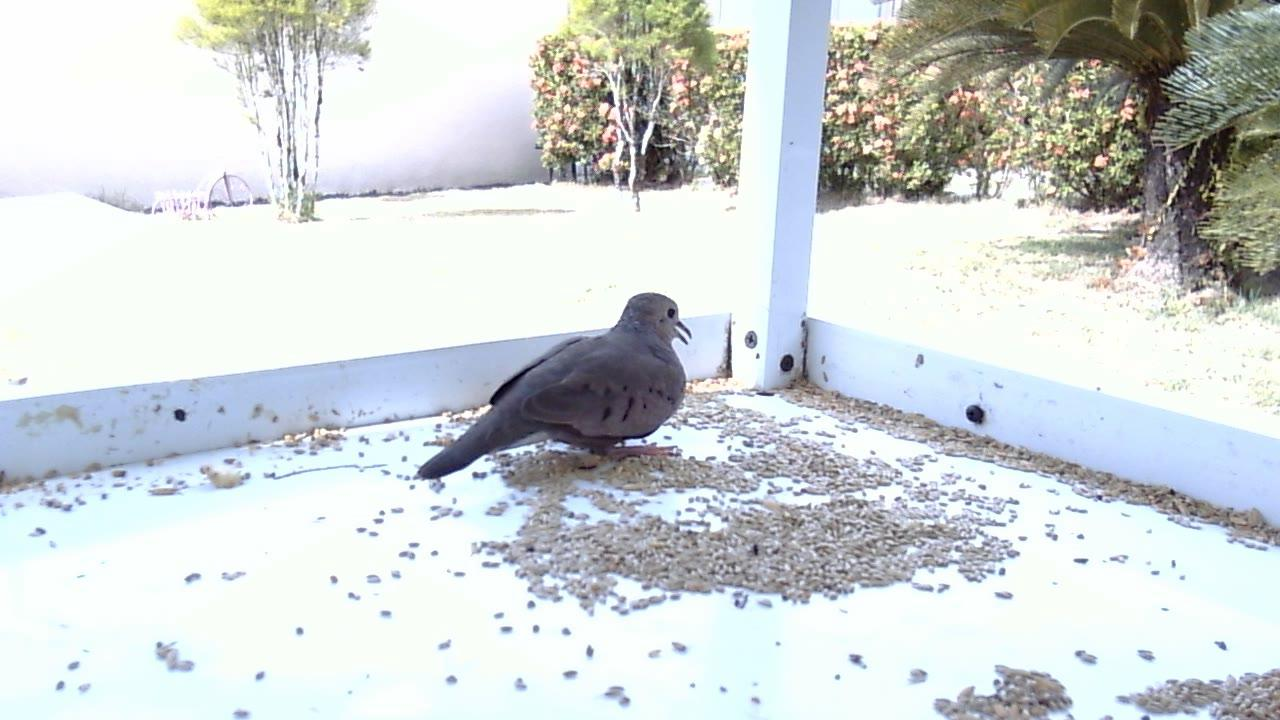rolinha: (416, 291, 698, 485)
